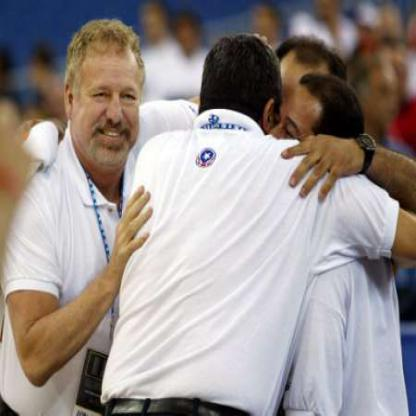face: (72, 22, 147, 172)
